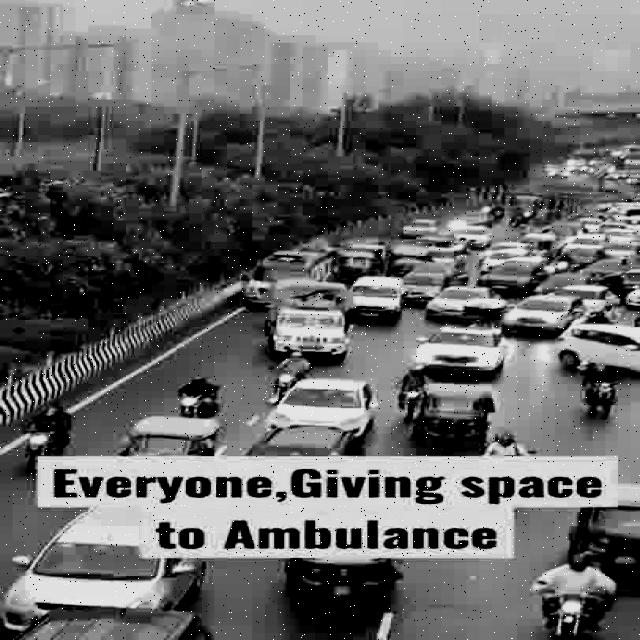Ambulance: (245, 240, 332, 280)
